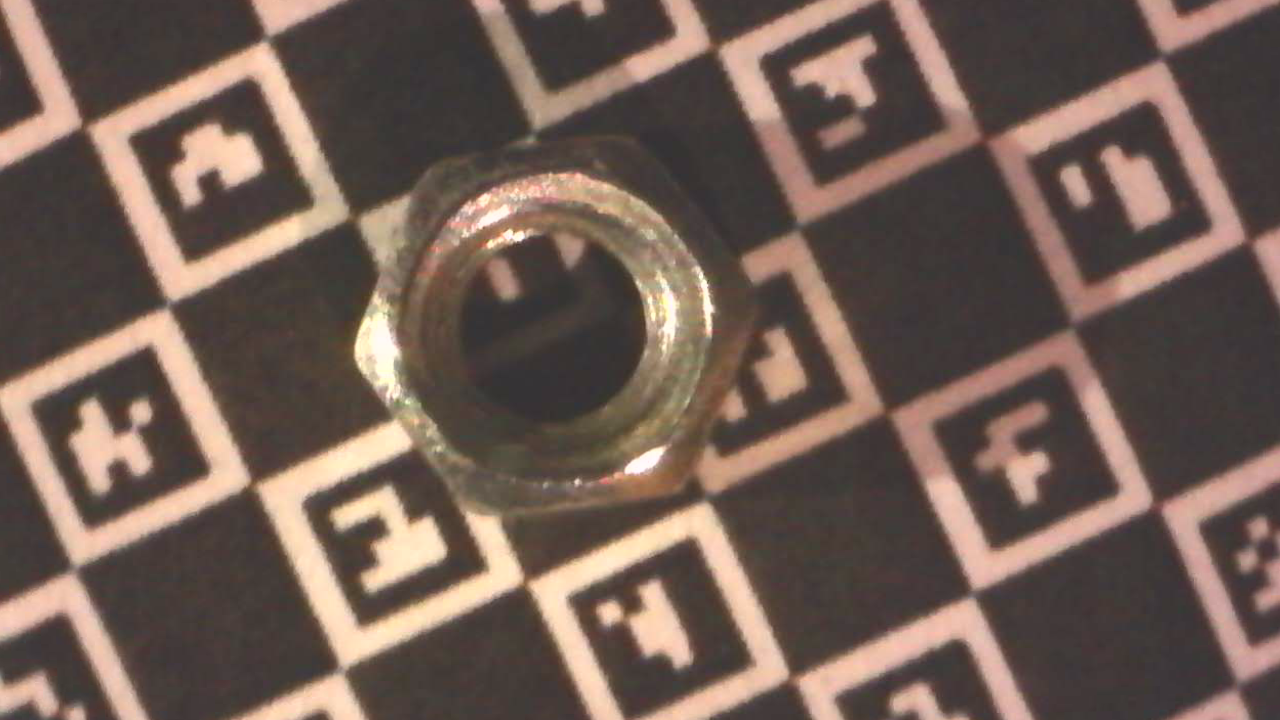Bolt: (348, 130, 766, 518)
